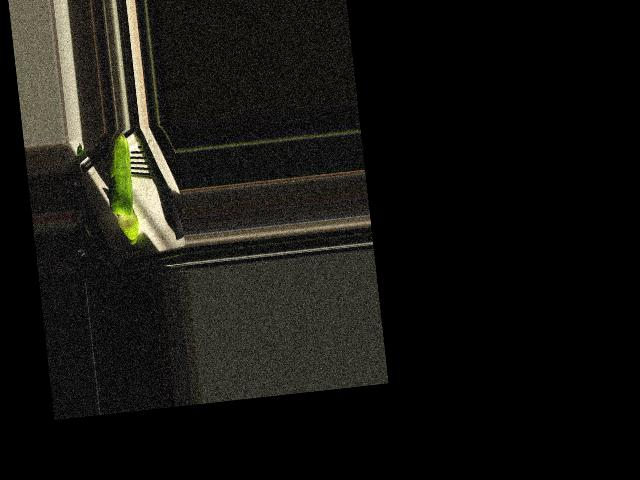cucumber: (102, 131, 137, 218)
